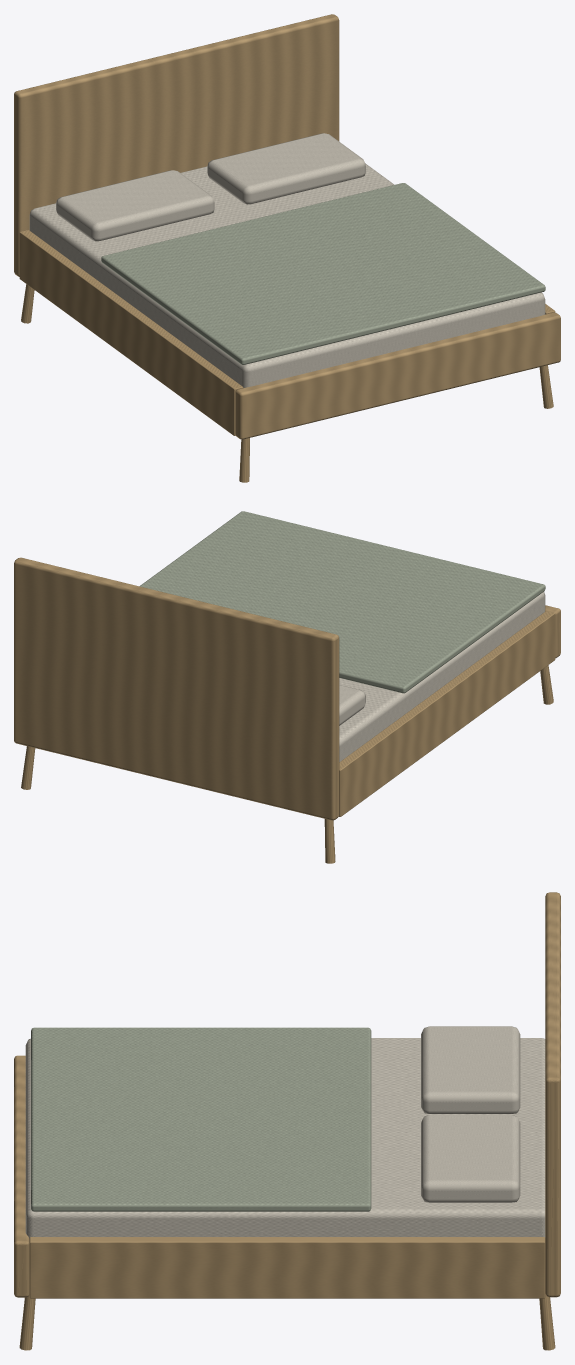
The model's file is tonstad-mobile.glb.
3 views of the same model, one above another, from view 1: azimuth 30°, elevation 25°; view 2: azimuth 150°, elevation 25°; view 3: azimuth 270°, elevation 25° (orthographic). The views are drawn at different scales.
Visible parts, largest first — view 1: TONSTAD Bed frame 160 × 200; view 2: TONSTAD Bed frame 160 × 200; view 3: TONSTAD Bed frame 160 × 200.
Part boxes in pixels (x1,y1,x2,y2): TONSTAD Bed frame 160 × 200: (14, 14, 560, 482); TONSTAD Bed frame 160 × 200: (14, 511, 560, 863); TONSTAD Bed frame 160 × 200: (14, 892, 560, 1350).
Bounding box in the file's own units: 1.7 × 1.16 × 2.09.
3 materials, 3 textured.
